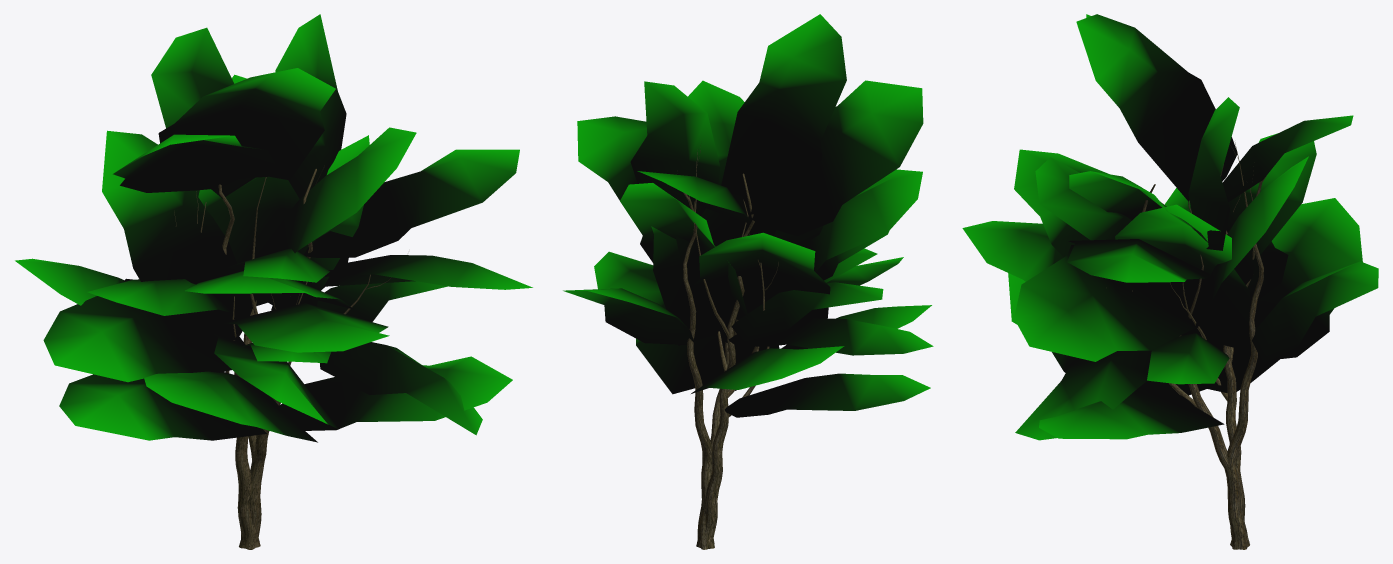
Rendered from oaktrees1.fbx.
The picture shows the model from 3 angles, left to right: view 1: azimuth 30°, elevation 25°; view 2: azimuth 150°, elevation 25°; view 3: azimuth 270°, elevation 25°; orthographic projection. The views are drawn at different scales.
Visible parts, largest first — view 1: Treesmall; view 2: Treesmall; view 3: Treesmall.
Part boxes in pixels (<box>): Treesmall: <box>15,14,532,549</box>; Treesmall: <box>563,14,933,549</box>; Treesmall: <box>962,14,1378,549</box>.
Size of the model in its own units: 323 by 391 by 292.
